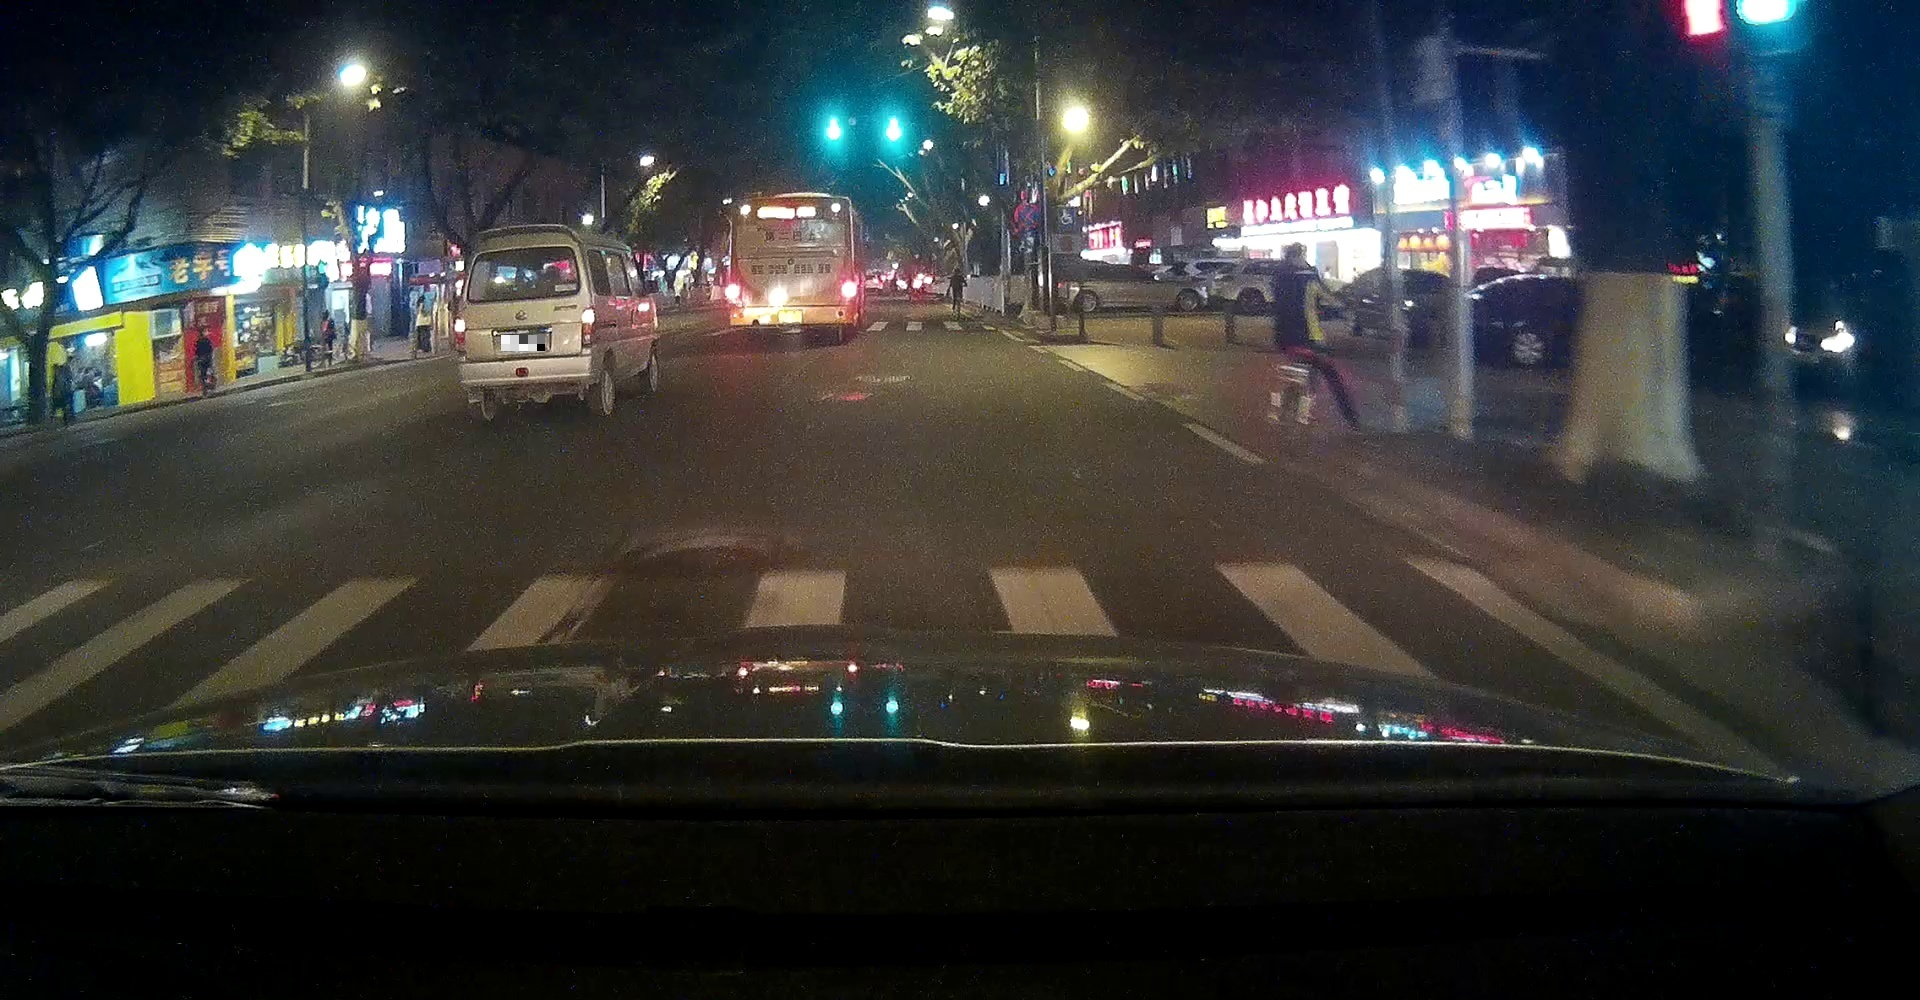L_light: (455, 316, 466, 355), (725, 283, 742, 307)
R_light: (582, 307, 596, 349), (841, 280, 857, 305)
T_light: (509, 247, 530, 253), (782, 201, 799, 203)
night-no: (453, 225, 596, 423), (725, 192, 857, 343)
plate_1: (502, 335, 545, 352)
